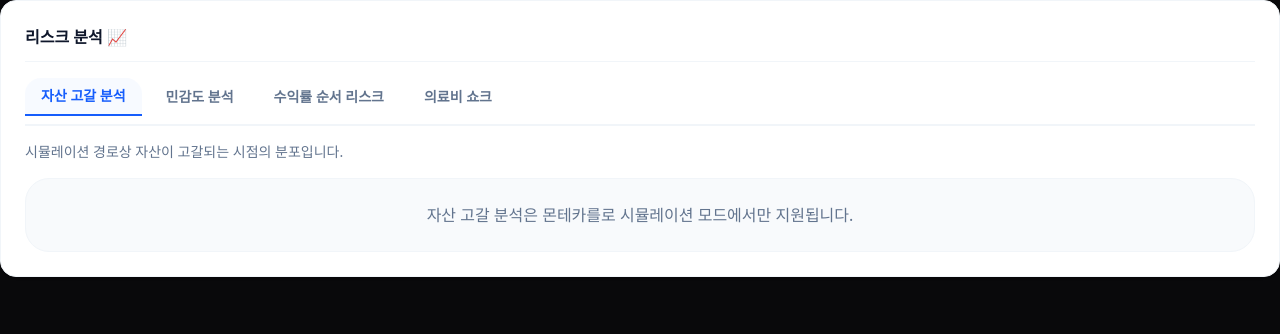
Test: RiskDashboard › shows a user-facing message when sensitivity analysis fails
Click the button "민감도 분석": coordinates (200, 97) x1=150 y1=78 x2=250 y2=116
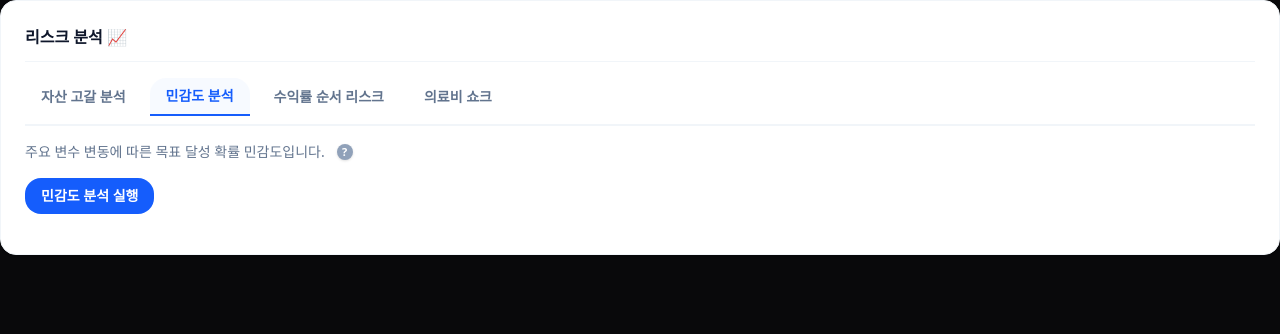
Click the button "민감도 분석 실행": coordinates (90, 196) x1=25 y1=178 x2=154 y2=214
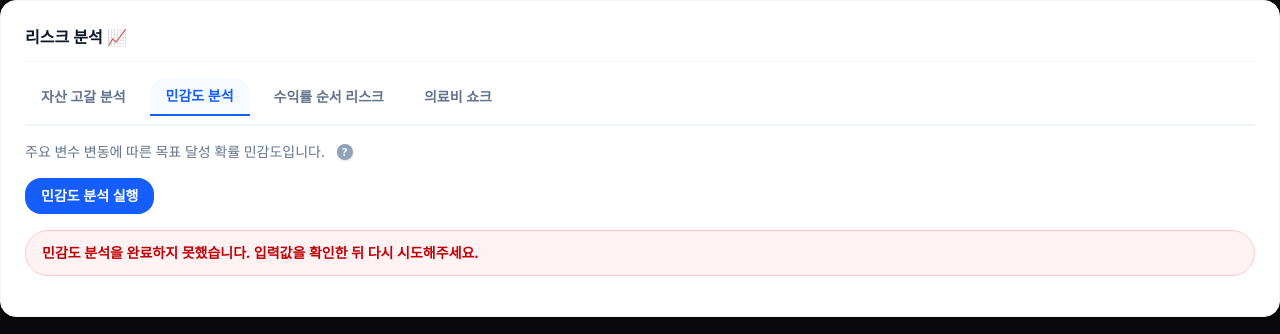
Expected: the text "민감도 분석을 완료하지 못했습니다. 입력값을 확인한 뒤 다시 시도해주세요." is shown, x1=25 y1=230 x2=1255 y2=276
